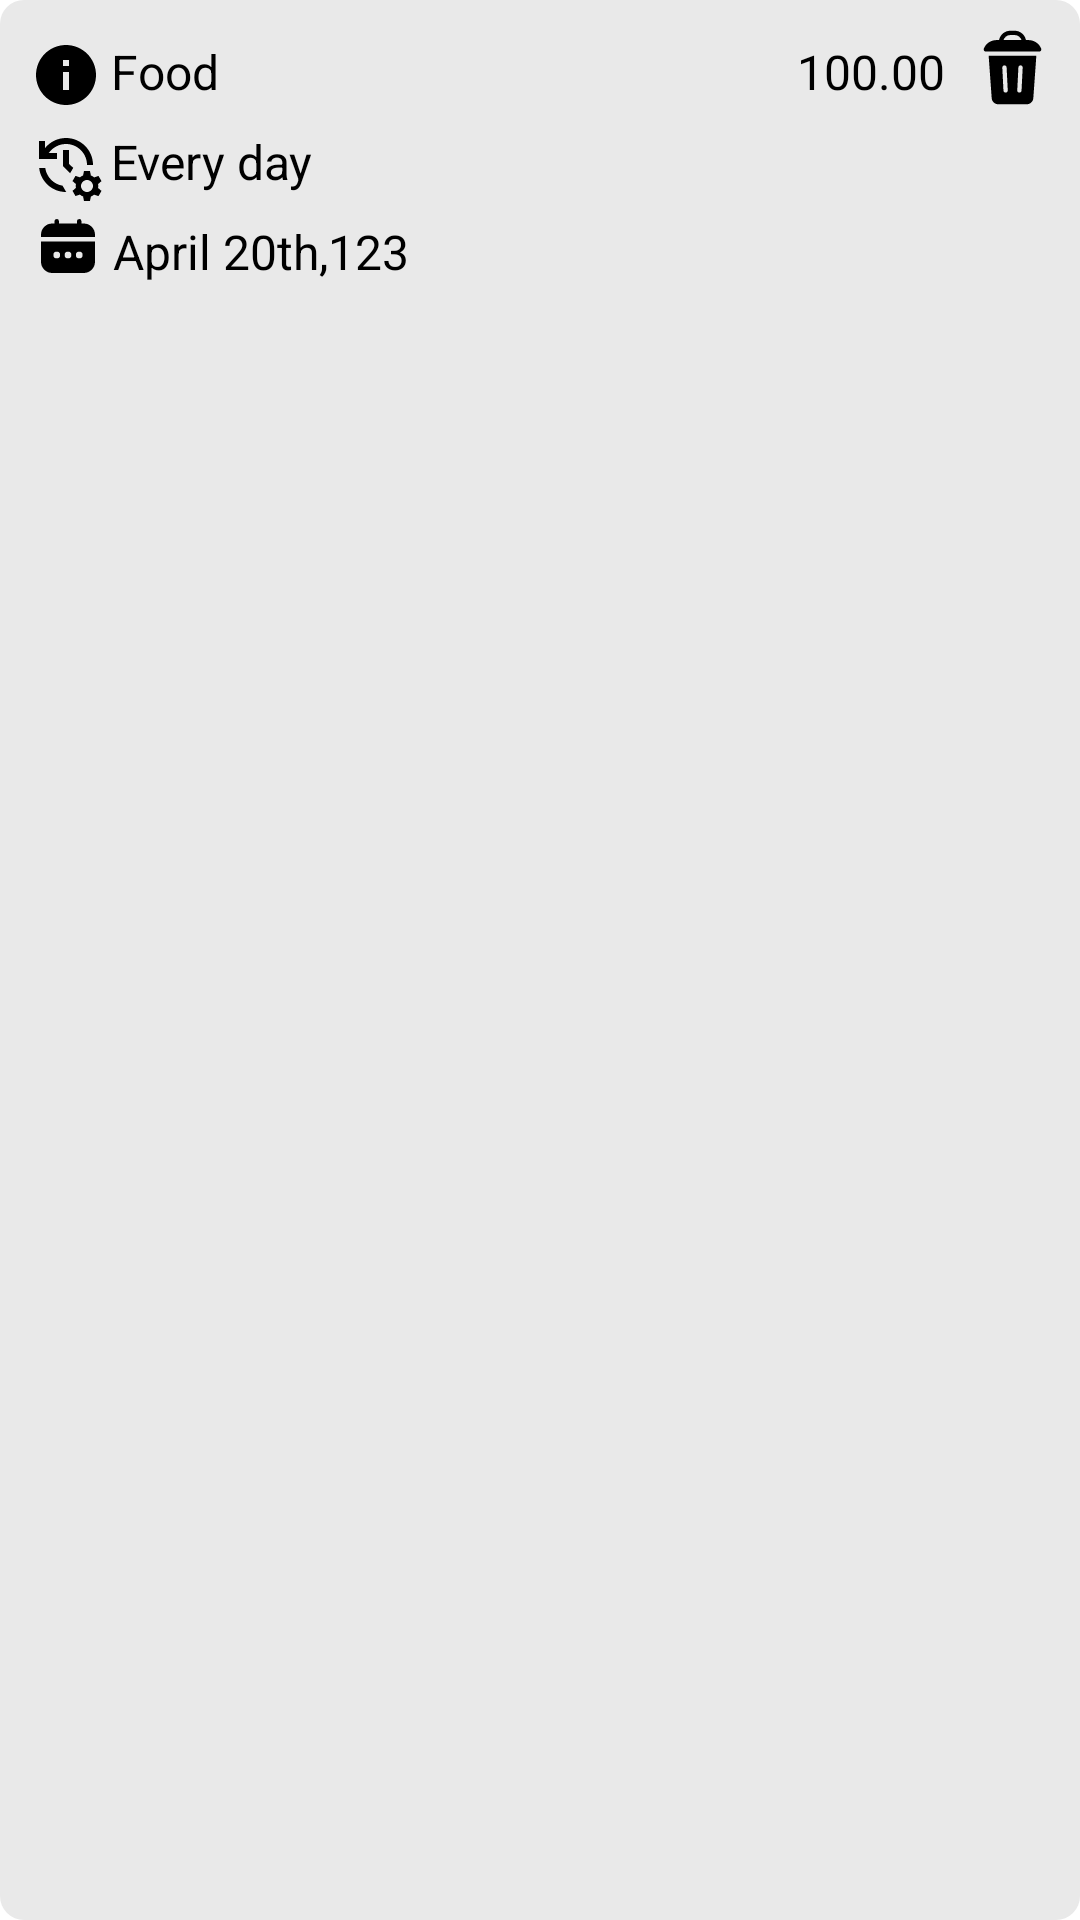

Screen size 1080*1920. Icon name, then its center in pixels as (x=x, y=y):
calendar: (x=68, y=246)
info: (x=66, y=75)
recurrence: (x=70, y=169)
trash: (x=1012, y=67)
